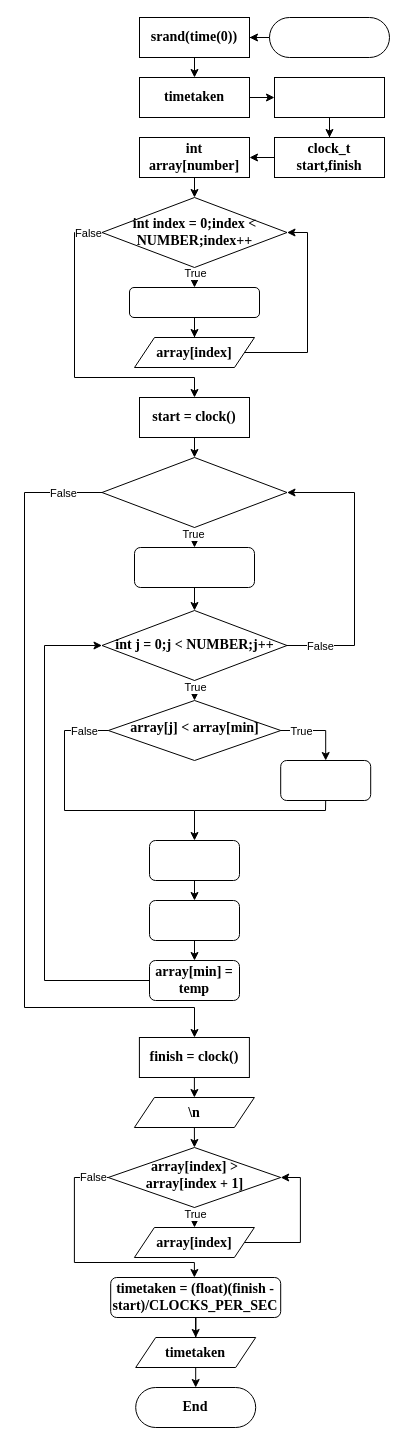
Image size: 407x1445. Some labels were removed from this diagram. The shapes that lost their labels are listed below. From the top down, each one's box as (x1, y1, x2, y2) in pixels, then its label:
(268, 16, 390, 58): Beginning
(274, 76, 384, 118): NUMBER
(128, 286, 260, 318): array[index] = rand() % 20 - 10 + 1
(101, 456, 287, 528): int index = 0;index < NUMBER; index ++
(134, 546, 254, 588): int min = index
(280, 760, 371, 800): min = j
(148, 840, 240, 880): int temp = array[index]
(148, 900, 240, 940): array[index] = array[min]
